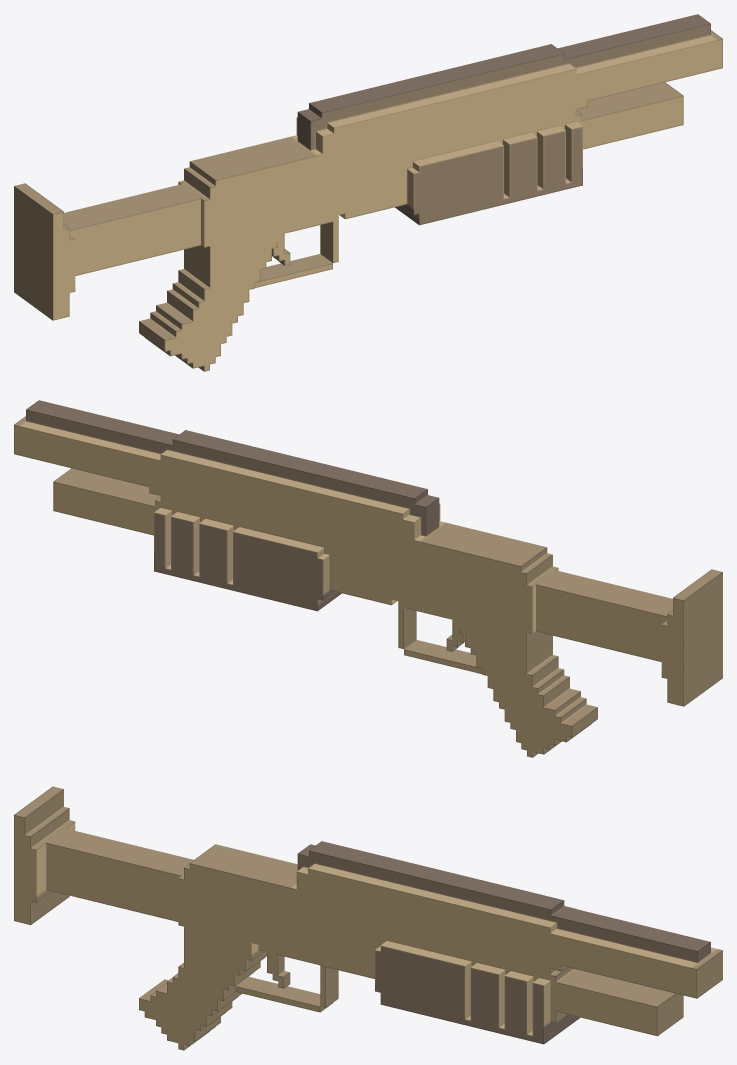
Rendered from Shotgun.FBX.
The picture shows the model from 3 angles, top to bottom: view 1: azimuth 30°, elevation 25°; view 2: azimuth 150°, elevation 25°; view 3: azimuth 330°, elevation 25°; orthographic projection.
Visible parts, largest first — view 1: Plane001; view 2: Plane001; view 3: Plane001.
Part boxes in pixels (x1=…): Plane001: x1=14, y1=14, x2=722, y2=371; Plane001: x1=14, y1=400, x2=722, y2=757; Plane001: x1=14, y1=786, x2=722, y2=1050.
Size of the model in its own units: 18.75 by 5.94 by 1.87.
Materials: 1 (1 with a texture image).
